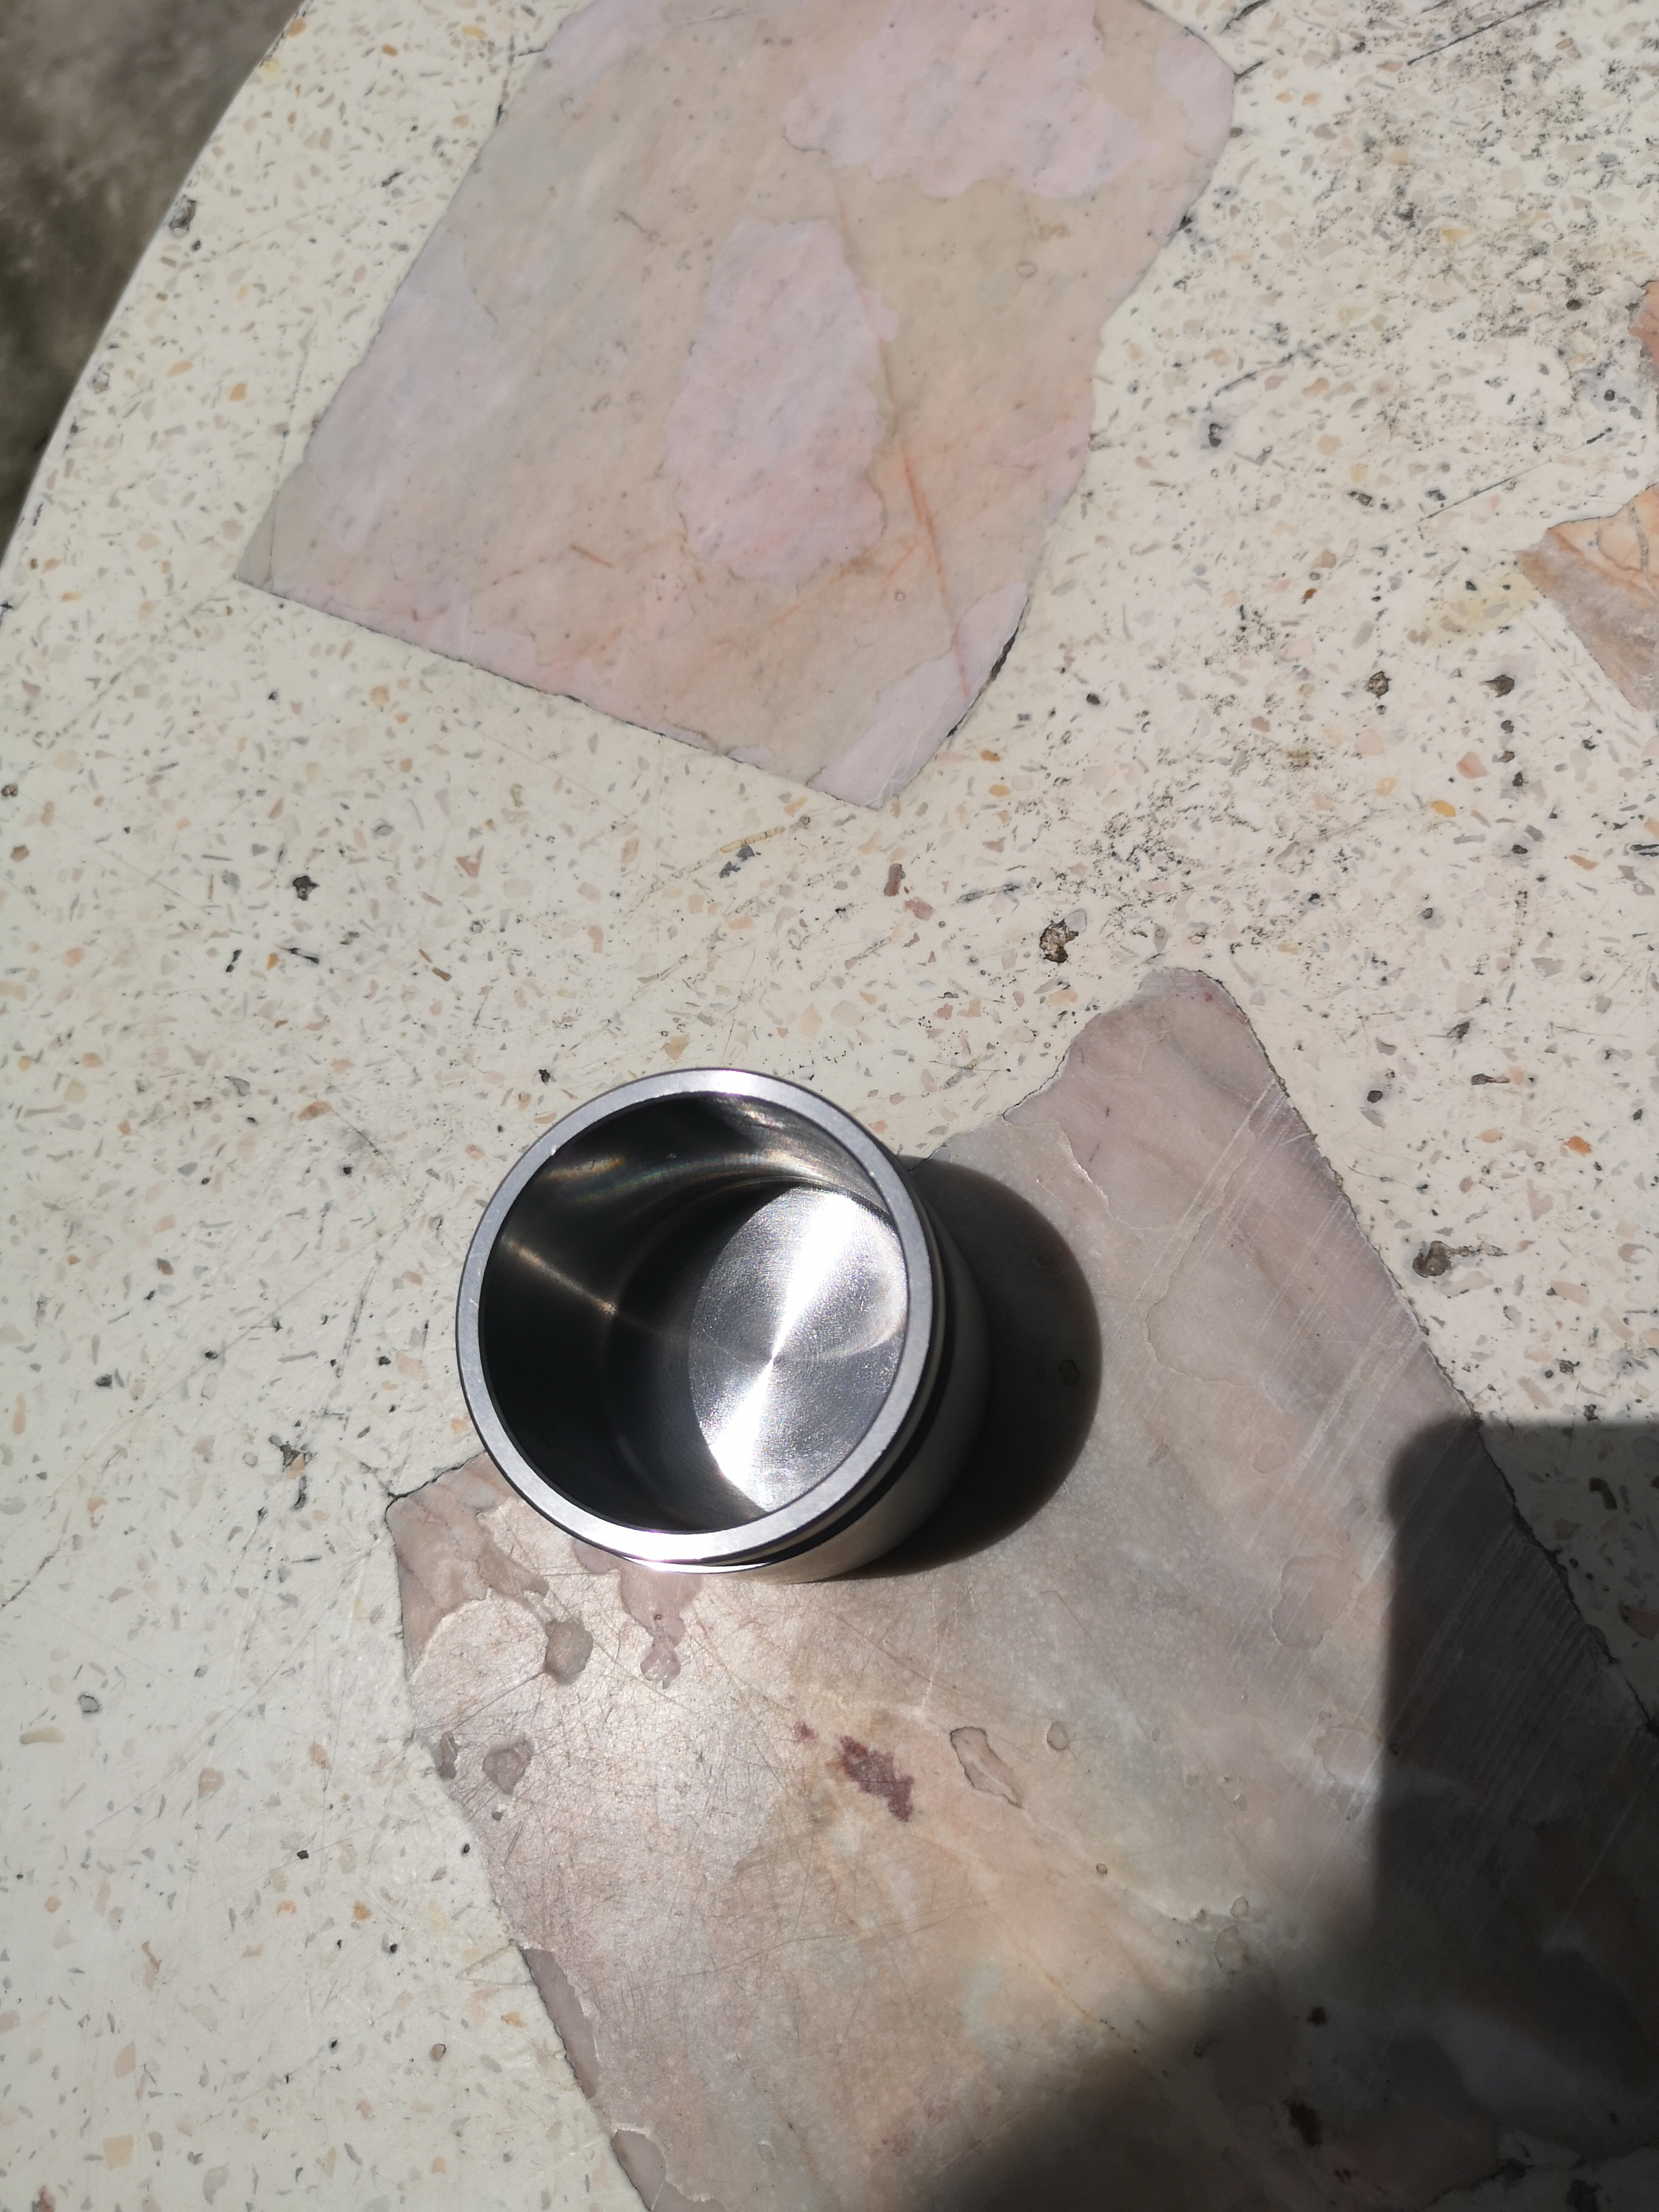ลูกสูบดิสเบรค: (410, 1026, 1086, 1703)
